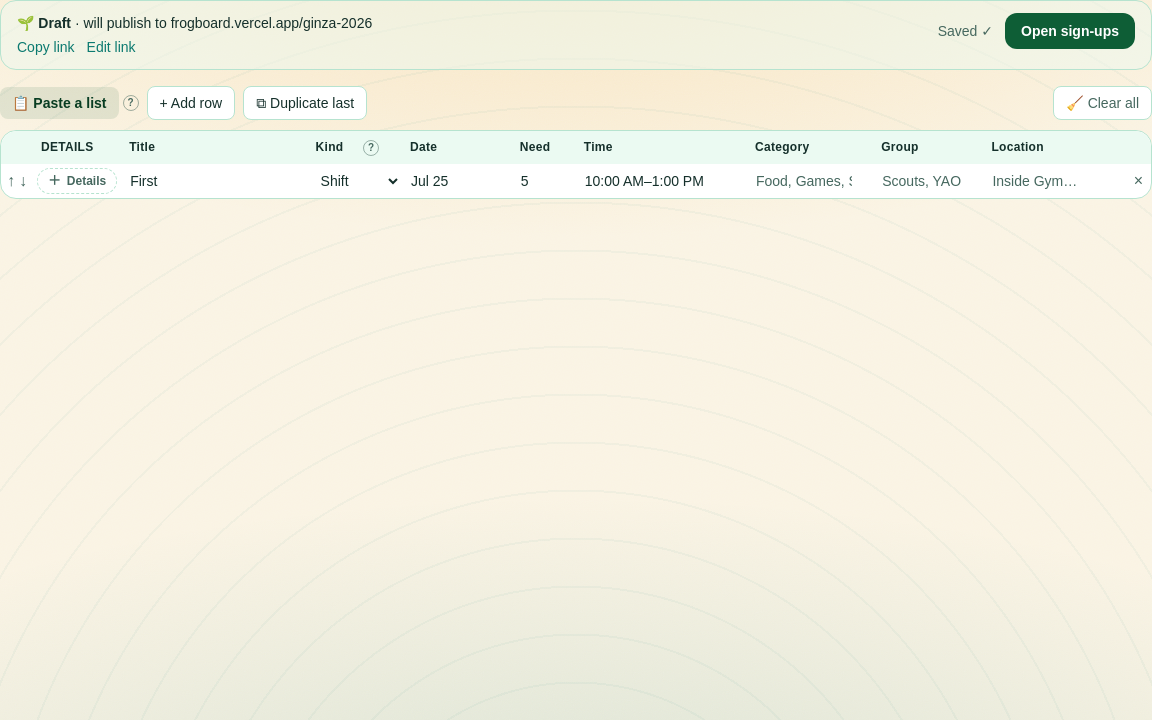
it: a toolbar Undo control appears only when there's something to undo, and reverses it
Click the button "🧹 Clear all": (1103, 103) x1=1053 y1=86 x2=1151 y2=120
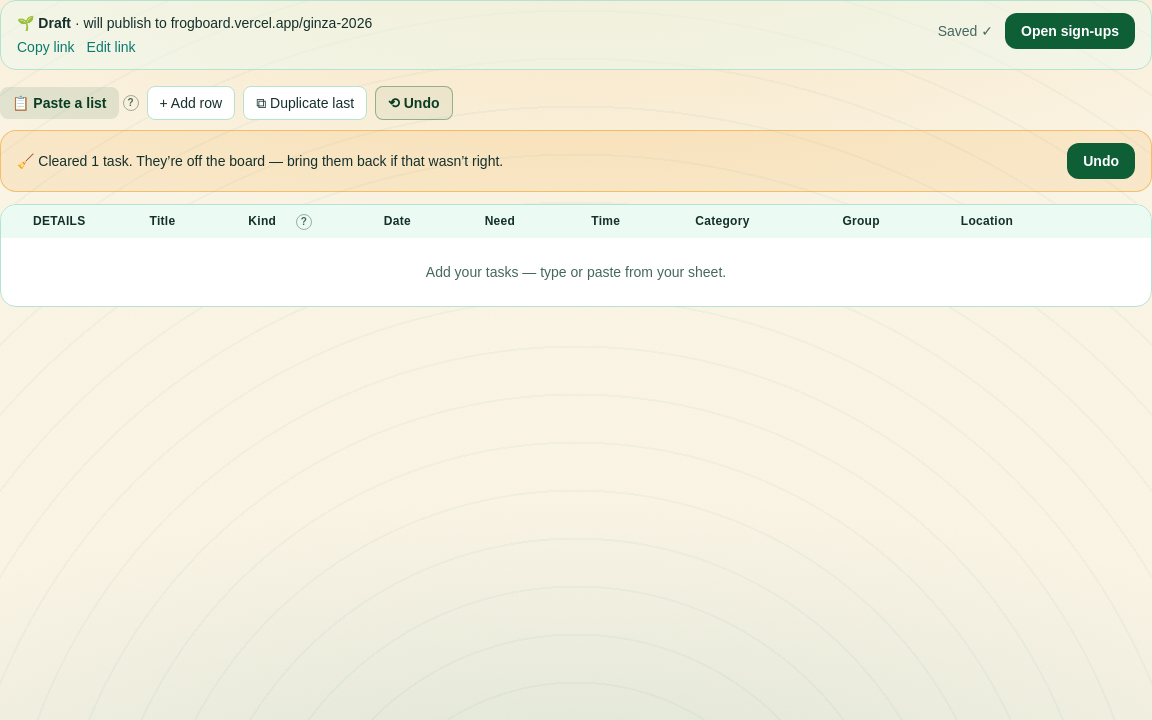
Click the button with aria-label "undo last change": (414, 103) x1=375 y1=86 x2=452 y2=120
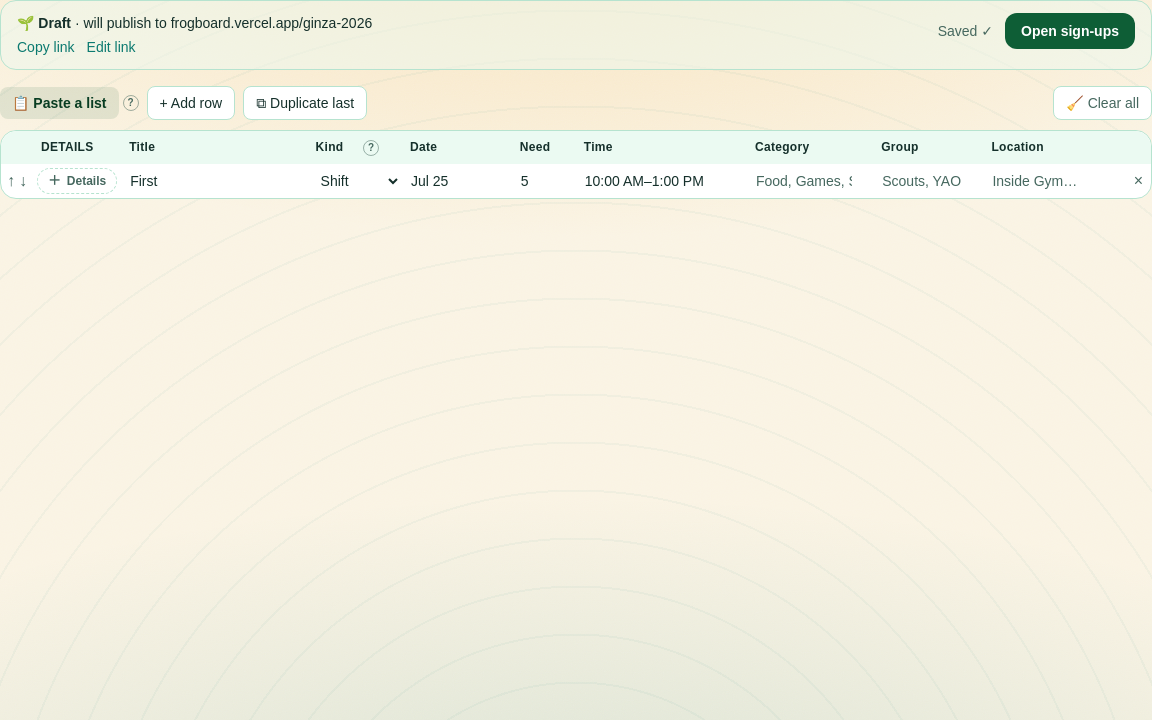
Expected: the field named "Title, row 1" holds "First", x1=121 y1=164 x2=308 y2=198
